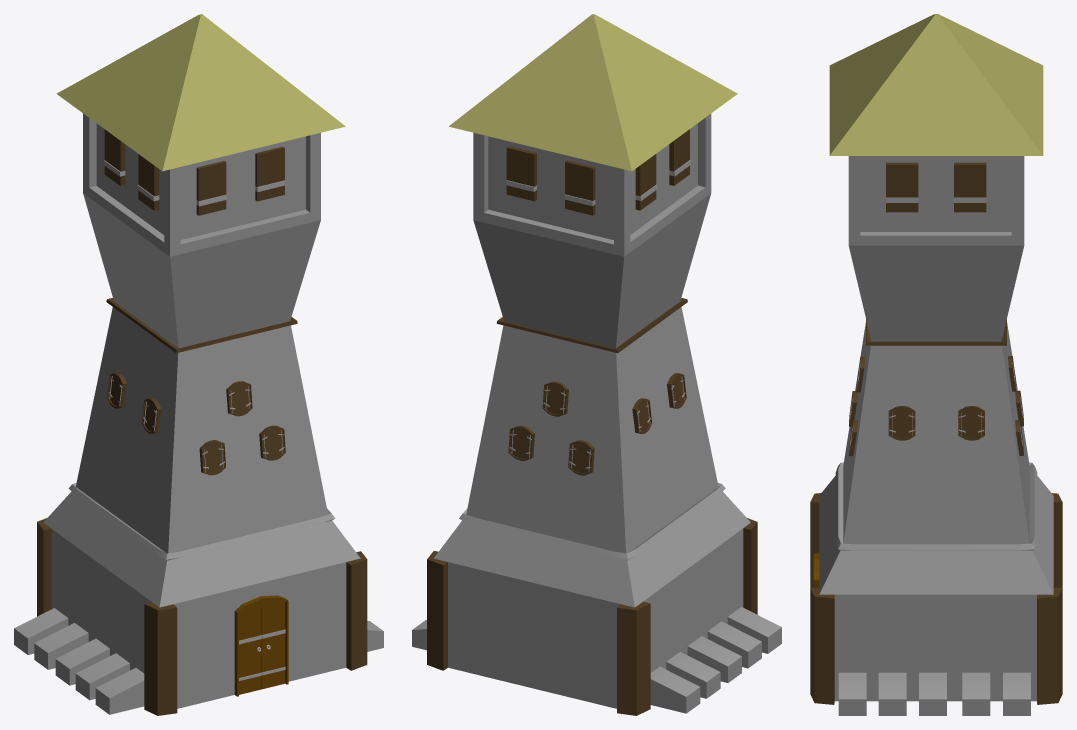
Rendered from WatchTower.fbx.
3 views of the same model, side by side, from view 1: azimuth 30°, elevation 25°; view 2: azimuth 150°, elevation 25°; view 3: azimuth 270°, elevation 25° (orthographic).
Visible parts, largest first — view 1: Tower; view 2: Tower; view 3: Tower.
Part boxes in pixels (bbox=[...]): Tower: bbox=[14, 14, 383, 715]; Tower: bbox=[412, 14, 781, 715]; Tower: bbox=[810, 14, 1062, 715].
Bounding box in the file's own units: 6.22 × 13.68 × 4.92.
